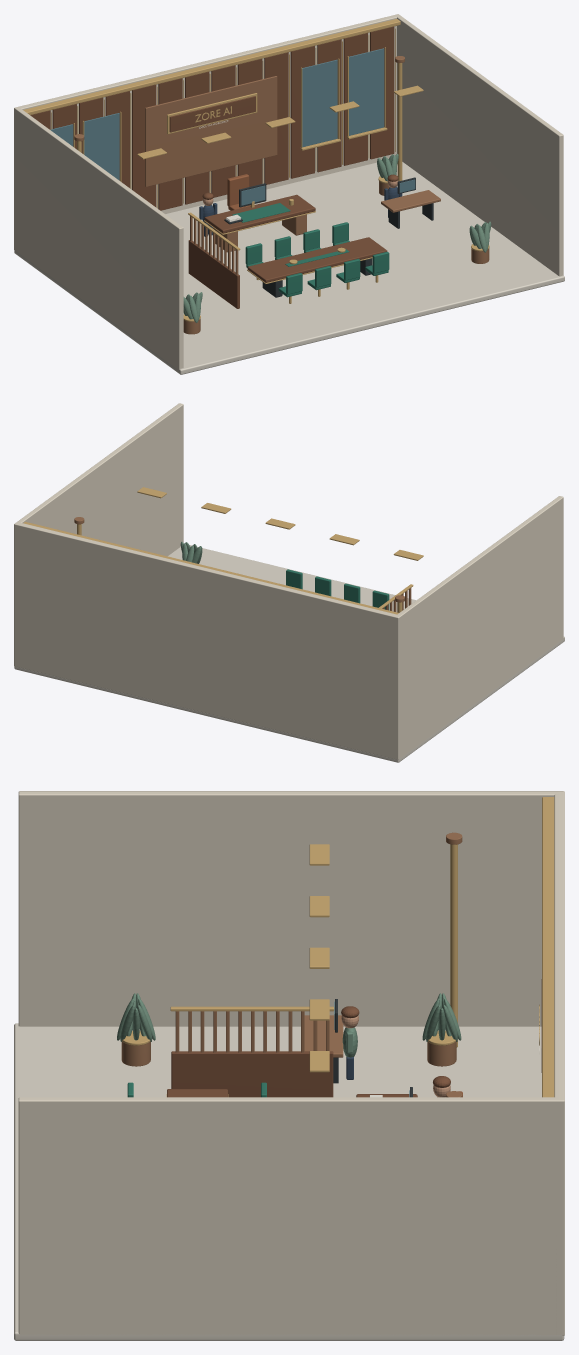
The model's file is zore-ai-executive-office.glb.
3 views of the same model, one above another, from view 1: azimuth 30°, elevation 25°; view 2: azimuth 150°, elevation 25°; view 3: azimuth 270°, elevation 25° (orthographic). The views are drawn at different scales.
Parts seen in each view (by area): view 1: Polished marble floor, Left return wall, Right return wall, Feature wall inset, Rear plaster wall, Ceiling floating cornice, Panoramic window.002, Panoramic window.003, Conference table walnut slab, Full height walnut wall panel.009, Full height walnut wall panel.010, Full height walnut wall panel.013 (+19 smaller); view 2: Rear plaster wall, Left return wall, Right return wall, Polished marble floor, Ceiling floating cornice; view 3: Right return wall, Left return wall, Polished marble floor, Timber divider base, Rear plaster wall, Ceiling floating cornice, Decorative brass column, Side workstation desk, Divider brass cap.
Boxes of the visible parts, x1,y1,x2,y2 form: Polished marble floor: (14,162,564,374); Left return wall: (15,108,183,370); Right return wall: (397,15,563,276); Feature wall inset: (145,76,277,186); Rear plaster wall: (14,14,399,250); Ceiling floating cornice: (23,19,400,115); Panoramic window.002: (302,59,337,147); Panoramic window.003: (349,48,384,135); Conference table walnut slab: (247,237,387,282); Full height walnut wall panel.009: (264,52,288,184); Full height walnut wall panel.010: (290,46,314,178); Full height walnut wall panel.013: (370,26,394,159); Rear plaster wall: (14,522,400,759); Left return wall: (397,496,563,757); Right return wall: (16,403,183,556); Polished marble floor: (14,545,564,762); Ceiling floating cornice: (23,521,398,614); Right return wall: (18,1097,558,1335); Left return wall: (18,791,558,1026); Polished marble floor: (14,1023,564,1340); Timber divider base: (171,1051,333,1097); Rear plaster wall: (554,791,564,1335); Ceiling floating cornice: (542,797,554,1097); Decorative brass column: (450,844,457,1047); Side workstation desk: (304,1015,343,1057); Divider brass cap: (170,1006,334,1011).
Size of the model in its own units: 24 by 8.69 by 18.03.
